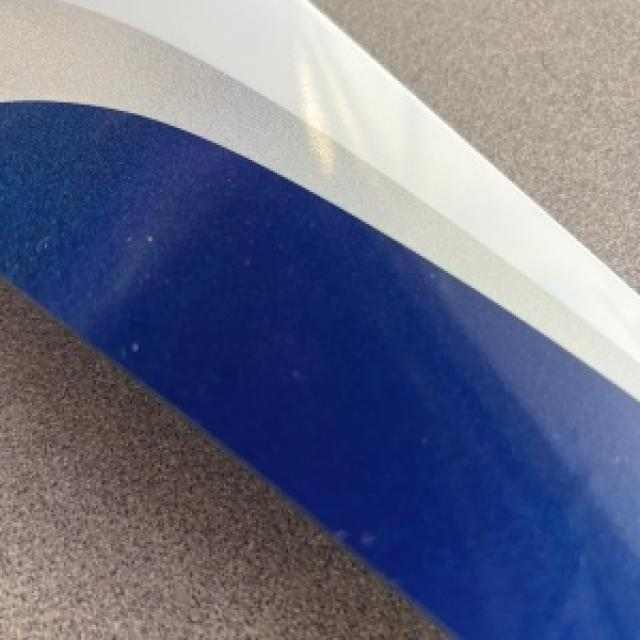healthy: (2, 427, 220, 638)
